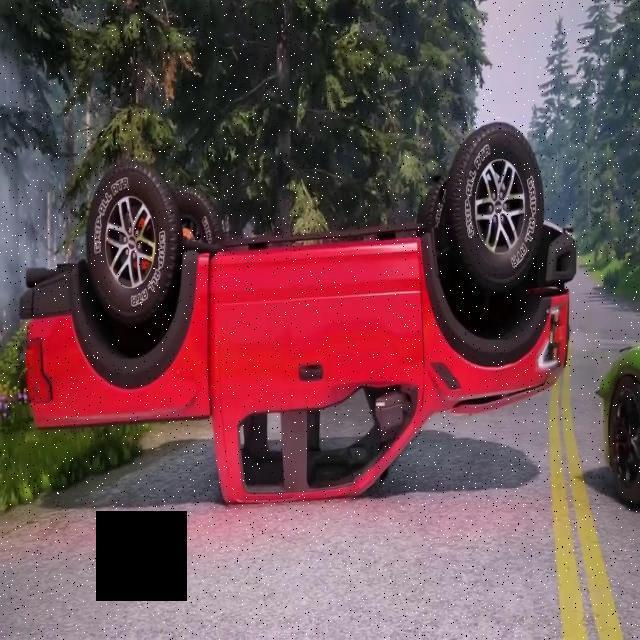single accident: (17, 139, 611, 506)
